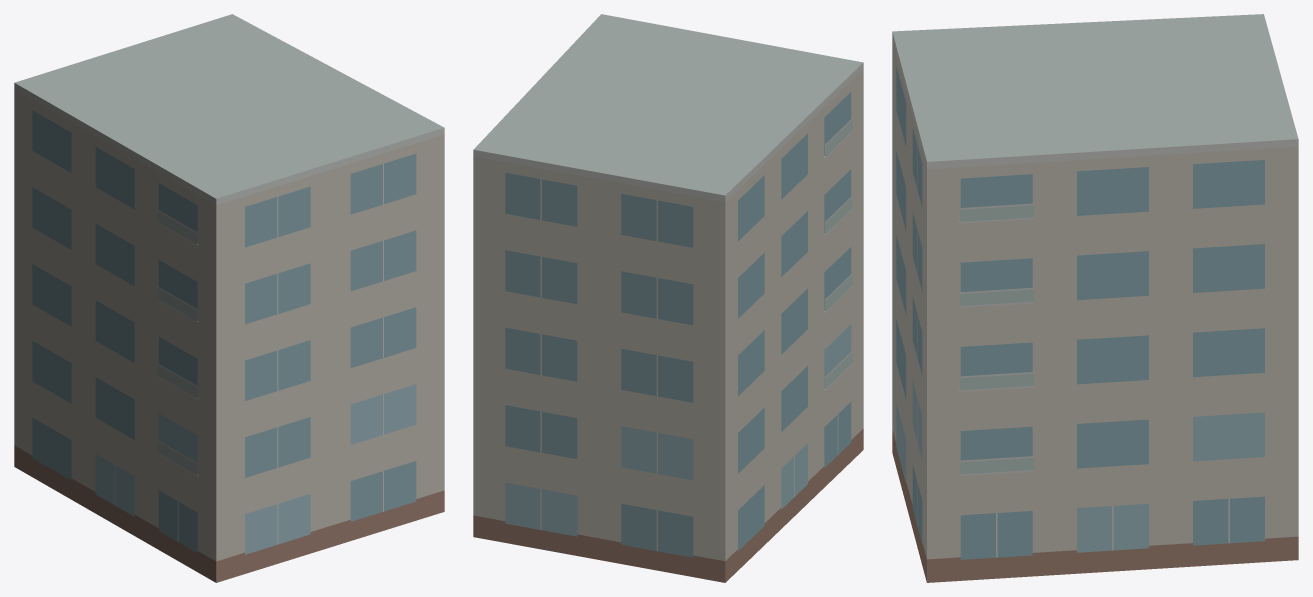
Rendered from survey-upis-32902683.glb.
The picture shows the model from 3 angles, left to right: view 1: azimuth 30°, elevation 25°; view 2: azimuth 150°, elevation 25°; view 3: azimuth 270°, elevation 25°; orthographic projection. The views are drawn at different scales.
Visible parts, largest first — view 1: survey-upis-32902683.tmp; view 2: survey-upis-32902683.tmp; view 3: survey-upis-32902683.tmp.
Boxes of the visible parts, x1,y1,x2,y2 form: survey-upis-32902683.tmp: (14, 14, 444, 582); survey-upis-32902683.tmp: (473, 14, 863, 582); survey-upis-32902683.tmp: (892, 14, 1298, 582).
Size of the model in its own units: 10.56 by 14 by 12.26.
